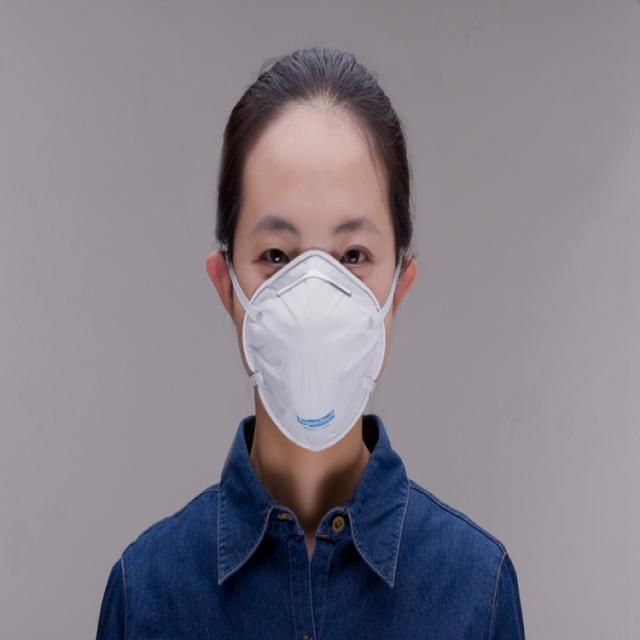mask: (231, 120, 395, 448)
